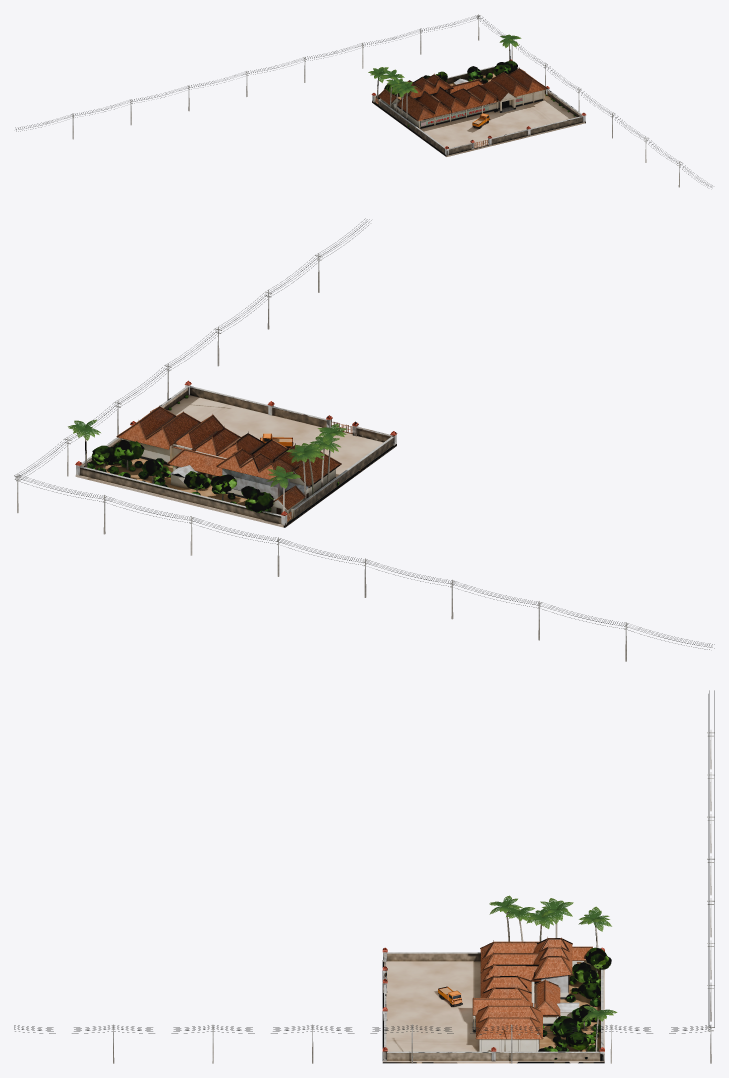
Rendered from factory.glb.
3 views of the same model, one above another, from view 1: azimuth 30°, elevation 25°; view 2: azimuth 150°, elevation 25°; view 3: azimuth 270°, elevation 25° (orthographic). The views are drawn at different scales.
Visible parts, largest first — view 1: Web_roofs, Web_ground, Web_compound, Web_buildings, Power_Lines, Web_green, Web_fronds, Web_sign; view 2: Web_roofs, Web_compound, Web_ground, Web_green, Power_Lines, Web_buildings, Web_fronds; view 3: Web_ground, Web_roofs, Web_compound, Web_green, Power_Lines, Web_fronds, Web_buildings.
Part boxes in pixels (bbox=[...]): Web_roofs: bbox=[378, 67, 547, 121]; Web_ground: bbox=[372, 72, 585, 156]; Web_compound: bbox=[71, 14, 681, 187]; Web_buildings: bbox=[380, 76, 544, 128]; Power_Lines: bbox=[15, 15, 712, 187]; Web_green: bbox=[377, 44, 575, 126]; Web_fronds: bbox=[368, 34, 521, 97]; Web_sign: bbox=[420, 106, 488, 126]; Web_roofs: bbox=[116, 405, 341, 509]; Web_compound: bbox=[14, 253, 628, 661]; Web_ground: bbox=[75, 395, 396, 527]; Web_green: bbox=[85, 395, 339, 512]; Power_Lines: bbox=[14, 218, 714, 649]; Web_buildings: bbox=[121, 411, 335, 514]; Web_fronds: bbox=[68, 419, 346, 488]; Web_ground: bbox=[382, 960, 604, 1063]; Web_roofs: bbox=[472, 937, 592, 1039]; Web_compound: bbox=[113, 730, 714, 1063]; Web_green: bbox=[506, 912, 611, 1059]; Power_Lines: bbox=[14, 690, 714, 1033]; Web_fronds: bbox=[489, 895, 617, 1021]; Web_buildings: bbox=[473, 960, 590, 1051].
Size of the model in its own units: 177 by 15.07 by 155.
9 materials, 8 textured.
